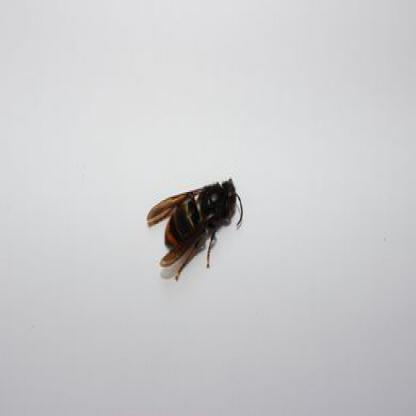Asian Hornet: (143, 177, 252, 279)
